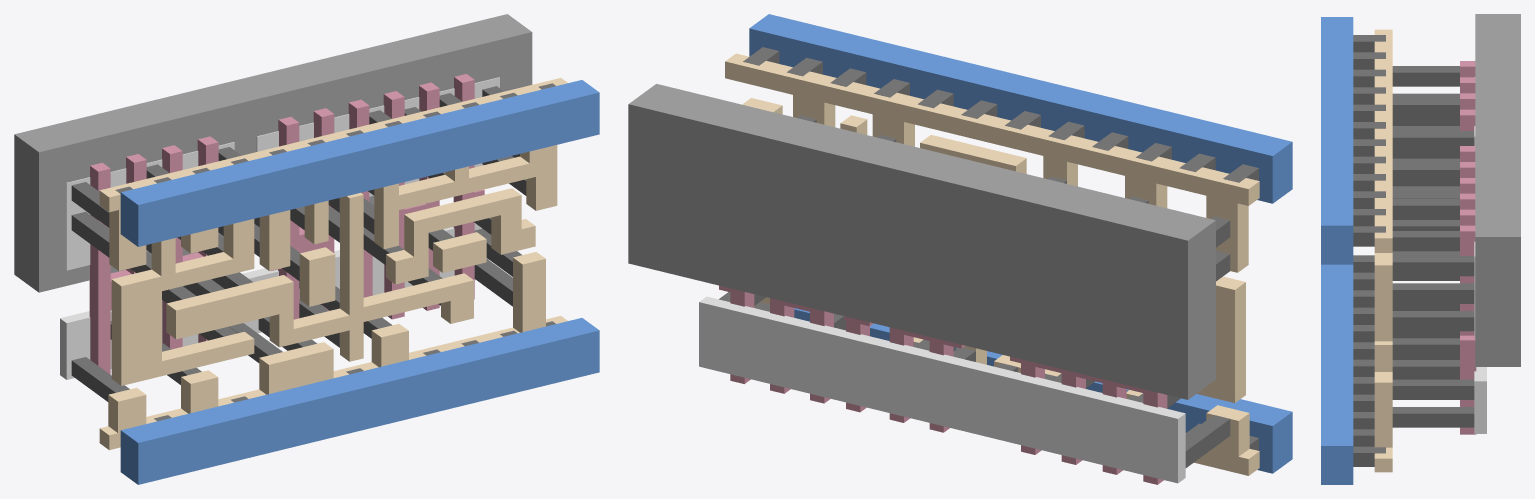
File: sky130_fd_sc_hd__a21o_4.gds.gltf
3 renders of one model, left to right at view 1: azimuth 30°, elevation 25°; view 2: azimuth 150°, elevation 25°; view 3: azimuth 270°, elevation 25°, orthographic. The views are drawn at different scales.
Visible parts, largest first — view 1: sky130_fd_sc_hd__a21o_4_li1, sky130_fd_sc_hd__a21o_4_met1, sky130_fd_sc_hd__a21o_4_nwell, sky130_fd_sc_hd__a21o_4_licon, sky130_fd_sc_hd__a21o_4_poly, sky130_fd_sc_hd__a21o_4_diff, sky130_fd_sc_hd__a21o_4_mcon; view 2: sky130_fd_sc_hd__a21o_4_nwell, sky130_fd_sc_hd__a21o_4_diff, sky130_fd_sc_hd__a21o_4_li1, sky130_fd_sc_hd__a21o_4_met1, sky130_fd_sc_hd__a21o_4_poly, sky130_fd_sc_hd__a21o_4_mcon, sky130_fd_sc_hd__a21o_4_licon; view 3: sky130_fd_sc_hd__a21o_4_licon, sky130_fd_sc_hd__a21o_4_nwell, sky130_fd_sc_hd__a21o_4_met1, sky130_fd_sc_hd__a21o_4_mcon, sky130_fd_sc_hd__a21o_4_li1, sky130_fd_sc_hd__a21o_4_poly, sky130_fd_sc_hd__a21o_4_diff.
Part boxes in pixels (x1=…): sky130_fd_sc_hd__a21o_4_li1: x1=99, y1=78, x2=567, y2=450; sky130_fd_sc_hd__a21o_4_met1: x1=120, y1=80, x2=599, y2=484; sky130_fd_sc_hd__a21o_4_nwell: x1=14, y1=14, x2=532, y2=292; sky130_fd_sc_hd__a21o_4_licon: x1=71, y1=86, x2=526, y2=401; sky130_fd_sc_hd__a21o_4_poly: x1=89, y1=74, x2=484, y2=374; sky130_fd_sc_hd__a21o_4_diff: x1=60, y1=77, x2=499, y2=379; sky130_fd_sc_hd__a21o_4_mcon: x1=115, y1=83, x2=555, y2=421; sky130_fd_sc_hd__a21o_4_nwell: x1=628, y1=84, x2=1215, y2=399; sky130_fd_sc_hd__a21o_4_diff: x1=699, y1=296, x2=1185, y2=483; sky130_fd_sc_hd__a21o_4_li1: x1=725, y1=53, x2=1259, y2=475; sky130_fd_sc_hd__a21o_4_met1: x1=749, y1=14, x2=1292, y2=473; sky130_fd_sc_hd__a21o_4_poly: x1=719, y1=285, x2=1167, y2=484; sky130_fd_sc_hd__a21o_4_mcon: x1=743, y1=47, x2=1258, y2=450; sky130_fd_sc_hd__a21o_4_licon: x1=719, y1=115, x2=1230, y2=467; sky130_fd_sc_hd__a21o_4_licon: x1=1392, y1=66, x2=1474, y2=427; sky130_fd_sc_hd__a21o_4_nwell: x1=1475, y1=14, x2=1520, y2=366; sky130_fd_sc_hd__a21o_4_met1: x1=1321, y1=17, x2=1353, y2=484; sky130_fd_sc_hd__a21o_4_mcon: x1=1353, y1=35, x2=1385, y2=466; sky130_fd_sc_hd__a21o_4_li1: x1=1374, y1=29, x2=1392, y2=472; sky130_fd_sc_hd__a21o_4_poly: x1=1460, y1=61, x2=1476, y2=434; sky130_fd_sc_hd__a21o_4_diff: x1=1474, y1=60, x2=1486, y2=433.
Bounding box in the file's own units: 5.9 × 3.2 × 2.24.
